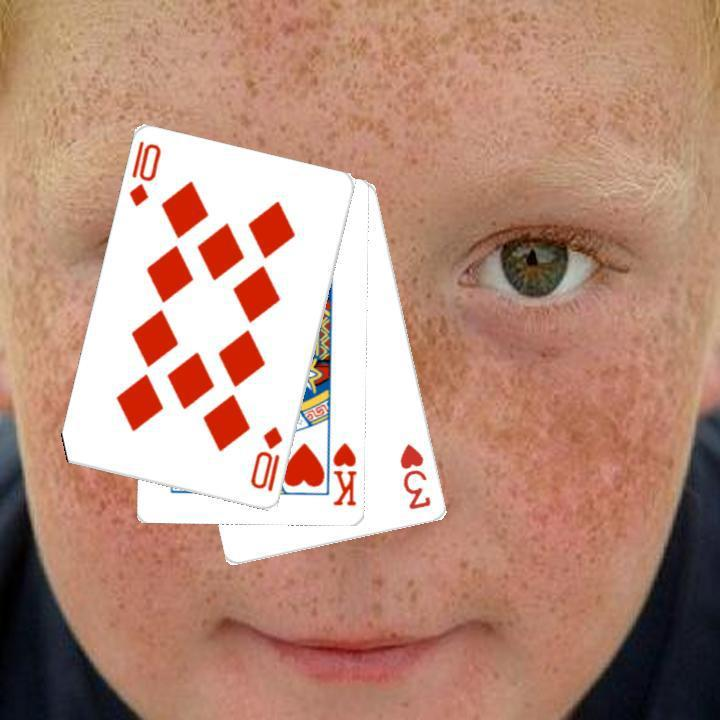10: (124, 136, 164, 210), (246, 423, 285, 494)
3: (396, 440, 434, 512)
K: (329, 439, 359, 508)
